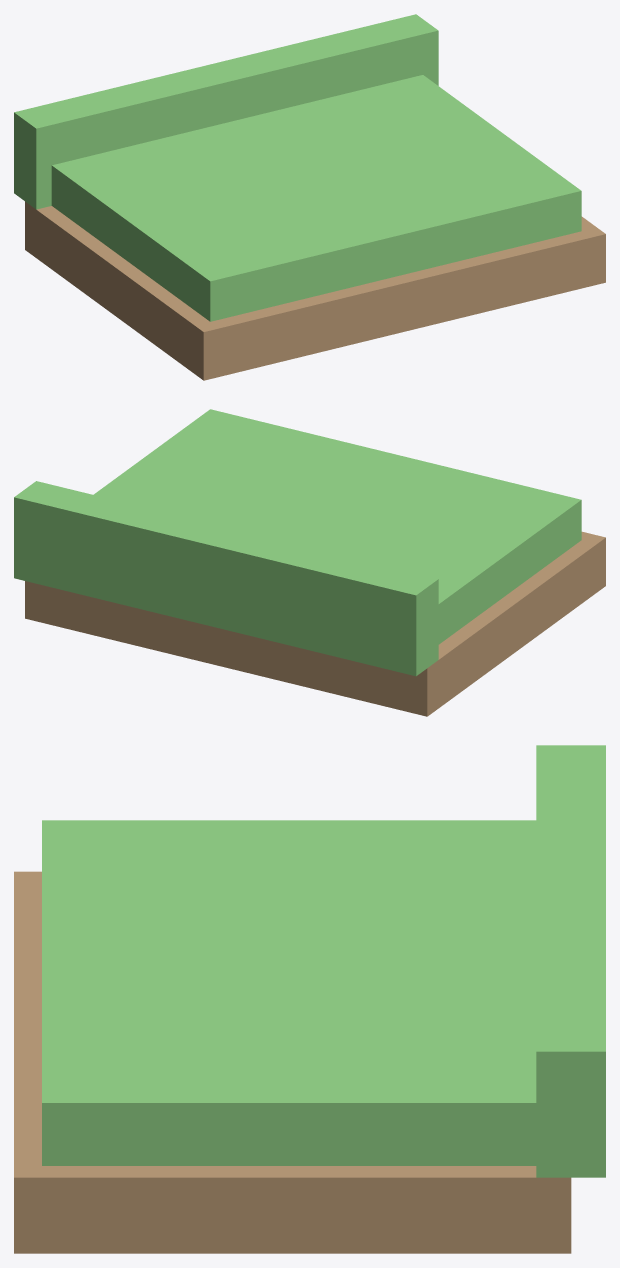
Rendered from Prop_Pet_AMF_Bed_V5.glb.
3 views of the same model, one above another, from view 1: azimuth 30°, elevation 25°; view 2: azimuth 150°, elevation 25°; view 3: azimuth 270°, elevation 25° (orthographic). The views are drawn at different scales.
Visible parts, largest first — view 1: Prop_Pet_AMF_Bed_V5; view 2: Prop_Pet_AMF_Bed_V5; view 3: Prop_Pet_AMF_Bed_V5.
Part boxes in pixels (x1,y1,x2,y2): Prop_Pet_AMF_Bed_V5: [14, 14, 605, 380]; Prop_Pet_AMF_Bed_V5: [14, 409, 605, 716]; Prop_Pet_AMF_Bed_V5: [14, 745, 605, 1253].
Bounding box in the file's own units: 1.04 × 0.32 × 0.85.
